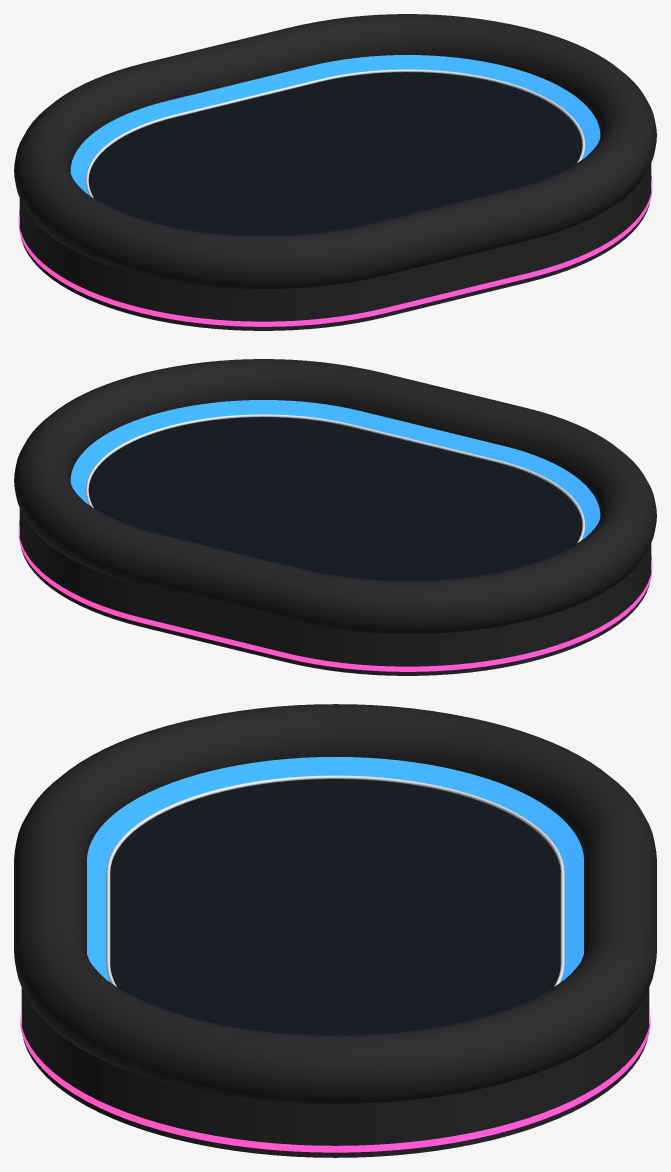
File: Tisch.glb
3 views of the same model, one above another, from view 1: azimuth 30°, elevation 25°; view 2: azimuth 150°, elevation 25°; view 3: azimuth 270°, elevation 25° (orthographic). The views are drawn at different scales.
Parts seen in each view (by area): view 1: Rail, Screen, Skirt, LEDStrip, Underglow, ChromeTrim; view 2: Rail, Screen, Skirt, LEDStrip, Underglow, ChromeTrim; view 3: Rail, Screen, Skirt, LEDStrip, Underglow, ChromeTrim.
Part boxes in pixels (x1,y1,x2,y2): Rail: [14, 14, 656, 288]; Screen: [88, 72, 582, 235]; Skirt: [19, 163, 651, 330]; LEDStrip: [70, 55, 600, 194]; Underglow: [18, 175, 652, 326]; ChromeTrim: [85, 69, 585, 197]; Rail: [14, 359, 656, 633]; Screen: [88, 417, 582, 580]; Skirt: [19, 508, 651, 675]; LEDStrip: [70, 400, 600, 539]; Underglow: [18, 520, 652, 671]; ChromeTrim: [85, 414, 585, 542]; Rail: [14, 704, 656, 1103]; Screen: [110, 779, 560, 1035]; Skirt: [21, 988, 649, 1157]; LEDStrip: [87, 757, 583, 982]; Underglow: [20, 1015, 650, 1152]; ChromeTrim: [106, 775, 564, 986].
Size of the model in its own units: 40 by 5.5 by 30.
